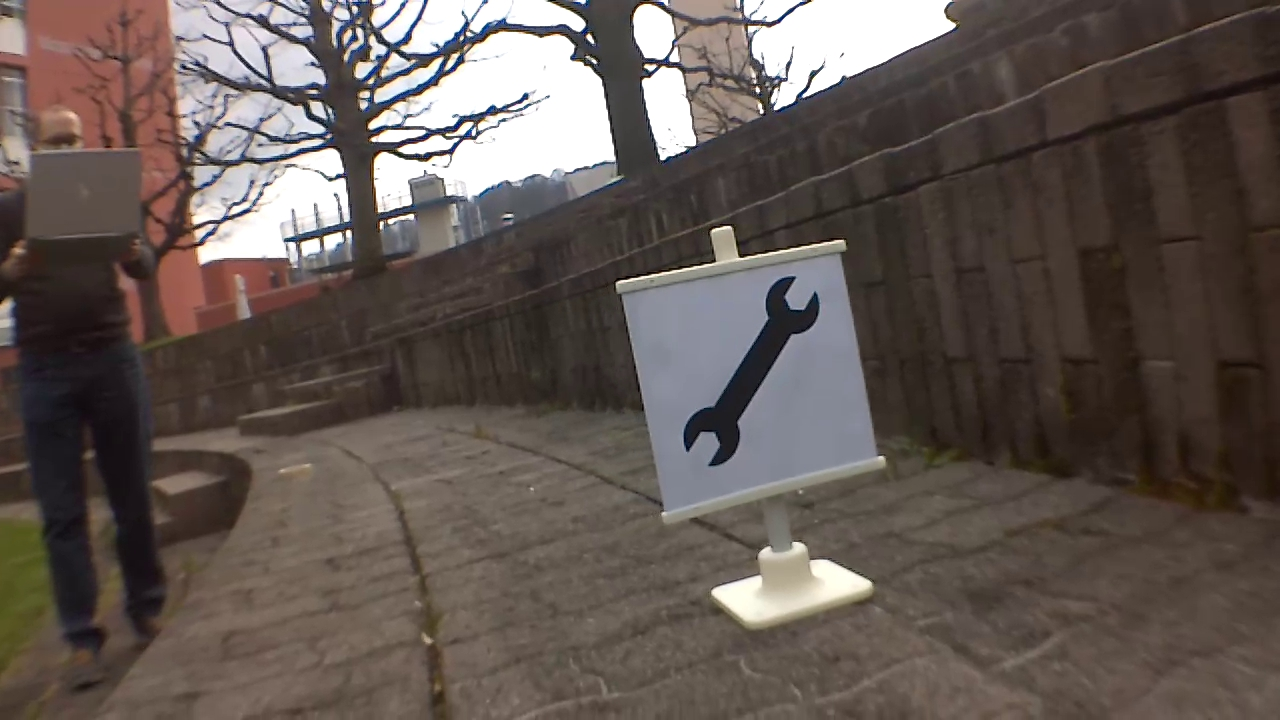wrench: (683, 273, 825, 471)
